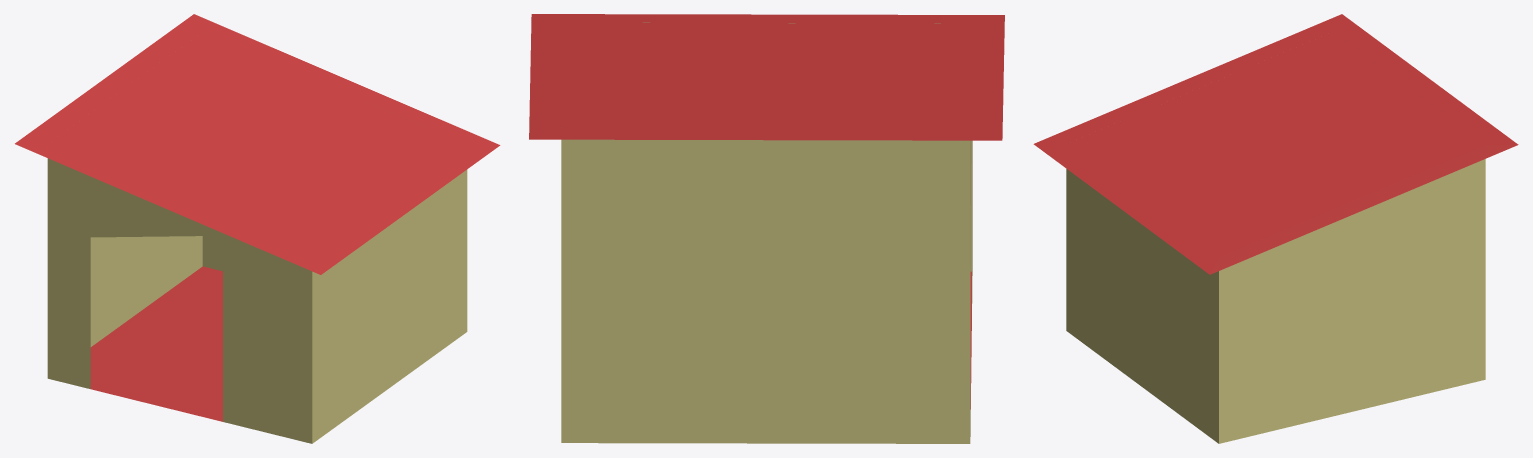
The picture shows the model from 3 angles, left to right: view 1: azimuth 30°, elevation 25°; view 2: azimuth 150°, elevation 25°; view 3: azimuth 270°, elevation 25°; orthographic projection. The views are drawn at different scales.
Size of the model in its own units: 15.01 by 15 by 8.14.
